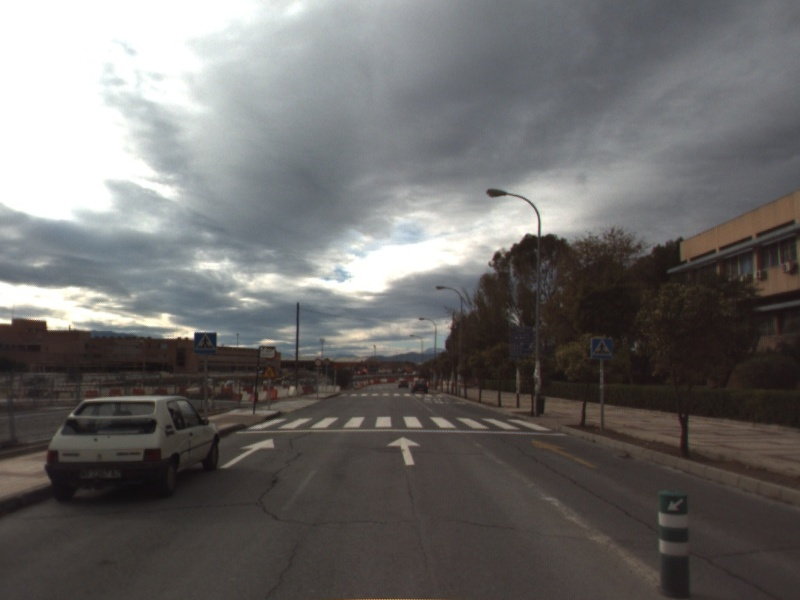STRAIGHT: (528, 437, 600, 470), (217, 436, 276, 470), (384, 434, 422, 467)
